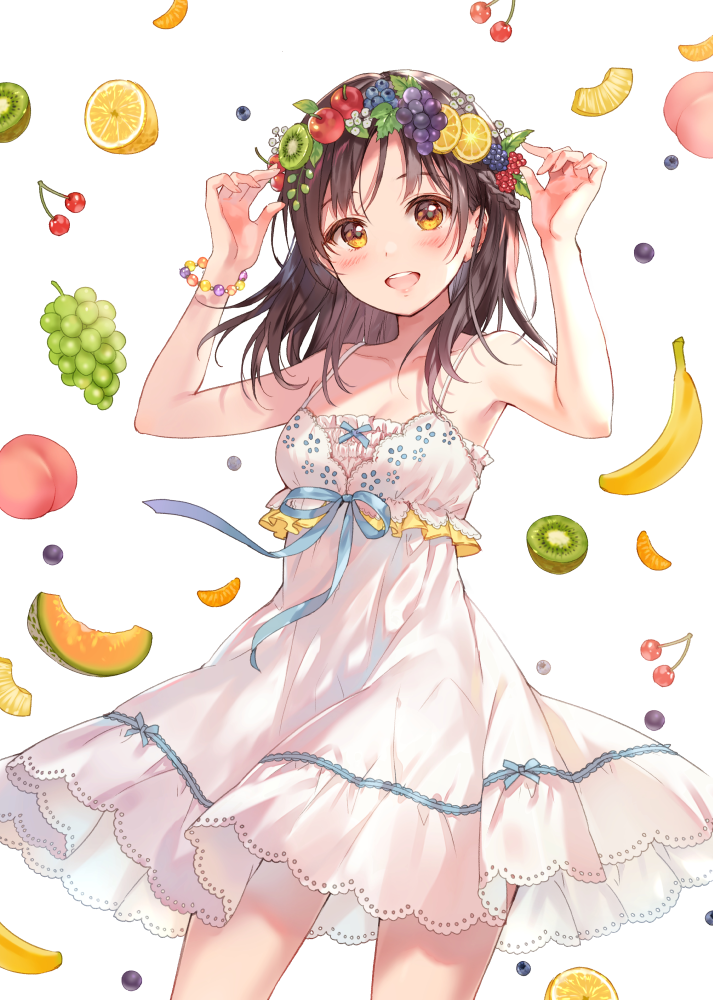纸片人正脸: (264, 62, 520, 323)
